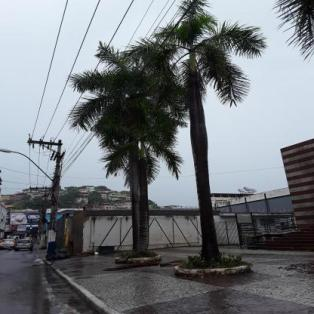Poste: (42, 139, 65, 257)
